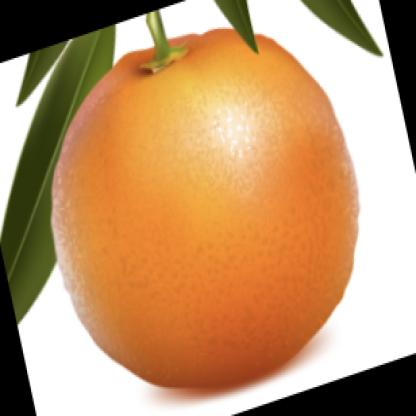fresh: (54, 30, 359, 388)
